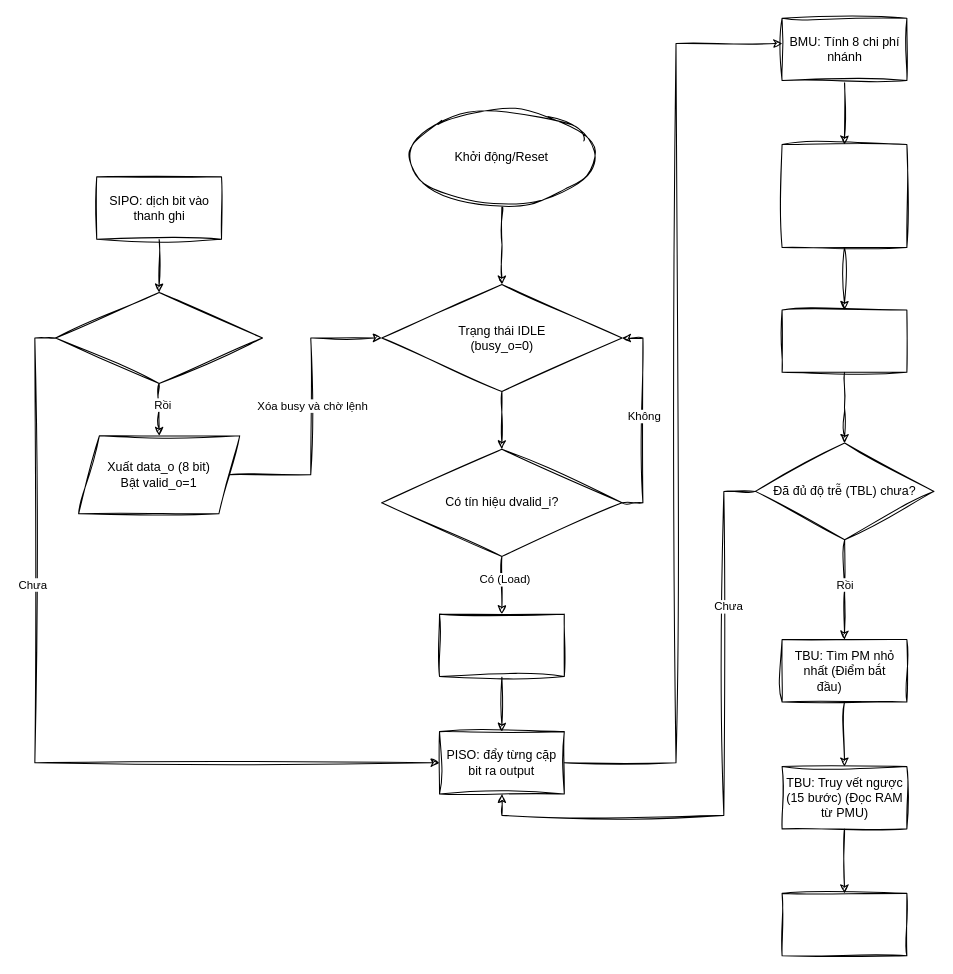
The diagram is 953 pixels wide and 974 high, and some of its shapes have lost their labels. Each missing label, with the centre of its shape:
ACSU: Cộng-So sánh-Chọn (Cập nhật 4 Path Metrics (PMs) mới: (x=844, y=196)
PISO: chốt 16 bit data busy_o=1: (x=501, y=645)
PMU: Ghi lịch sử và PMs (vào RAM và Reg): (x=844, y=340)
TBU: Xuất 1 bit gốc: (x=844, y=924)
Đã đủ 8 bit?: (x=159, y=338)
